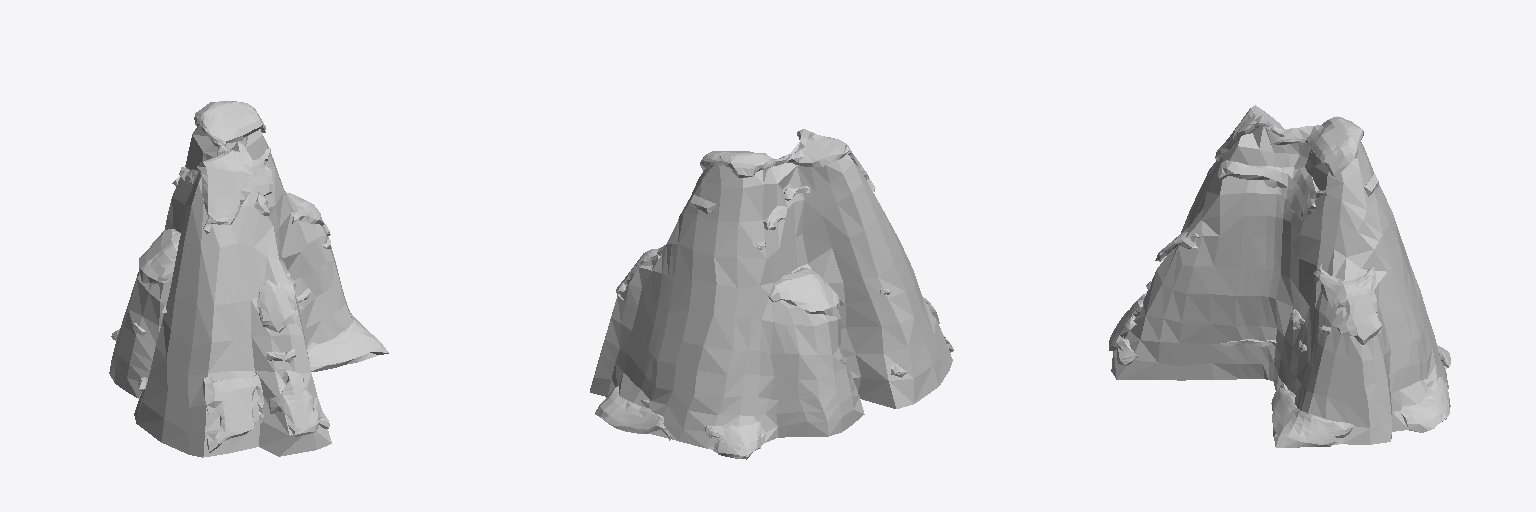
The model's file is Boulder_2_SnowCovered.obj.
3 renders of one model, left to right at view 1: azimuth 30°, elevation 25°; view 2: azimuth 150°, elevation 25°; view 3: azimuth 270°, elevation 25°, orthographic.
Parts seen in each view (by area): view 1: Boulder_2_BaseSnowCovered, Boulder_2_SnowCap; view 2: Boulder_2_BaseSnowCovered, Boulder_2_SnowCap; view 3: Boulder_2_BaseSnowCovered, Boulder_2_SnowCap.
Boxes of the visible parts, x1=… form: Boulder_2_BaseSnowCovered: x1=109, y1=127, x2=375, y2=457; Boulder_2_SnowCap: x1=111, y1=101, x2=388, y2=452; Boulder_2_BaseSnowCovered: x1=590, y1=142, x2=952, y2=449; Boulder_2_SnowCap: x1=595, y1=129, x2=953, y2=459; Boulder_2_BaseSnowCovered: x1=1111, y1=127, x2=1447, y2=444; Boulder_2_SnowCap: x1=1109, y1=105, x2=1450, y2=447.
Size of the model in its own units: 8 by 7.41 by 8.94.